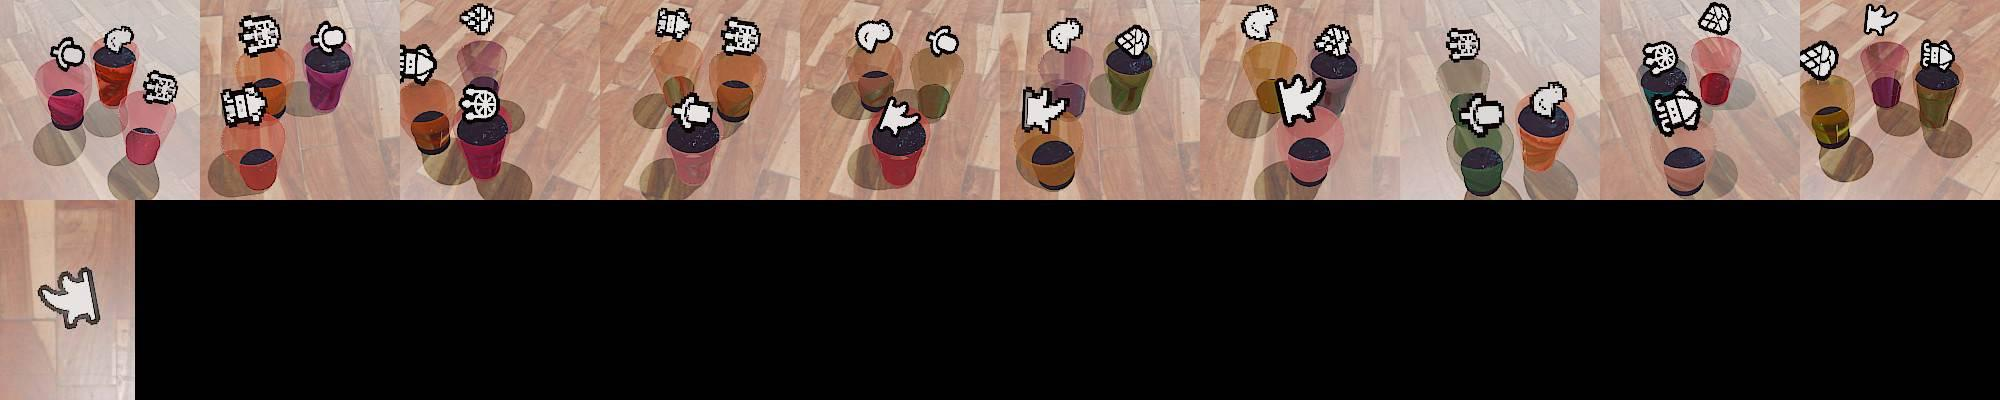icon: (34, 268, 99, 330), (1274, 73, 1325, 125), (1652, 85, 1704, 135), (1022, 84, 1069, 134), (1457, 93, 1506, 139), (218, 83, 269, 126), (237, 14, 282, 56), (718, 15, 761, 56), (878, 97, 922, 136), (398, 43, 437, 88), (1798, 41, 1838, 82), (459, 84, 501, 121), (673, 93, 714, 129), (1531, 80, 1568, 118), (1241, 4, 1278, 42), (1047, 17, 1084, 55), (142, 69, 179, 106), (654, 6, 693, 42), (856, 18, 894, 54), (50, 36, 87, 71), (311, 19, 348, 55), (1314, 22, 1352, 56), (1444, 27, 1481, 61), (1115, 23, 1152, 57), (1642, 41, 1679, 75), (459, 3, 496, 36), (1698, 1, 1732, 36), (1918, 38, 1954, 71), (1864, 4, 1898, 37), (926, 24, 960, 56), (103, 25, 134, 54)
